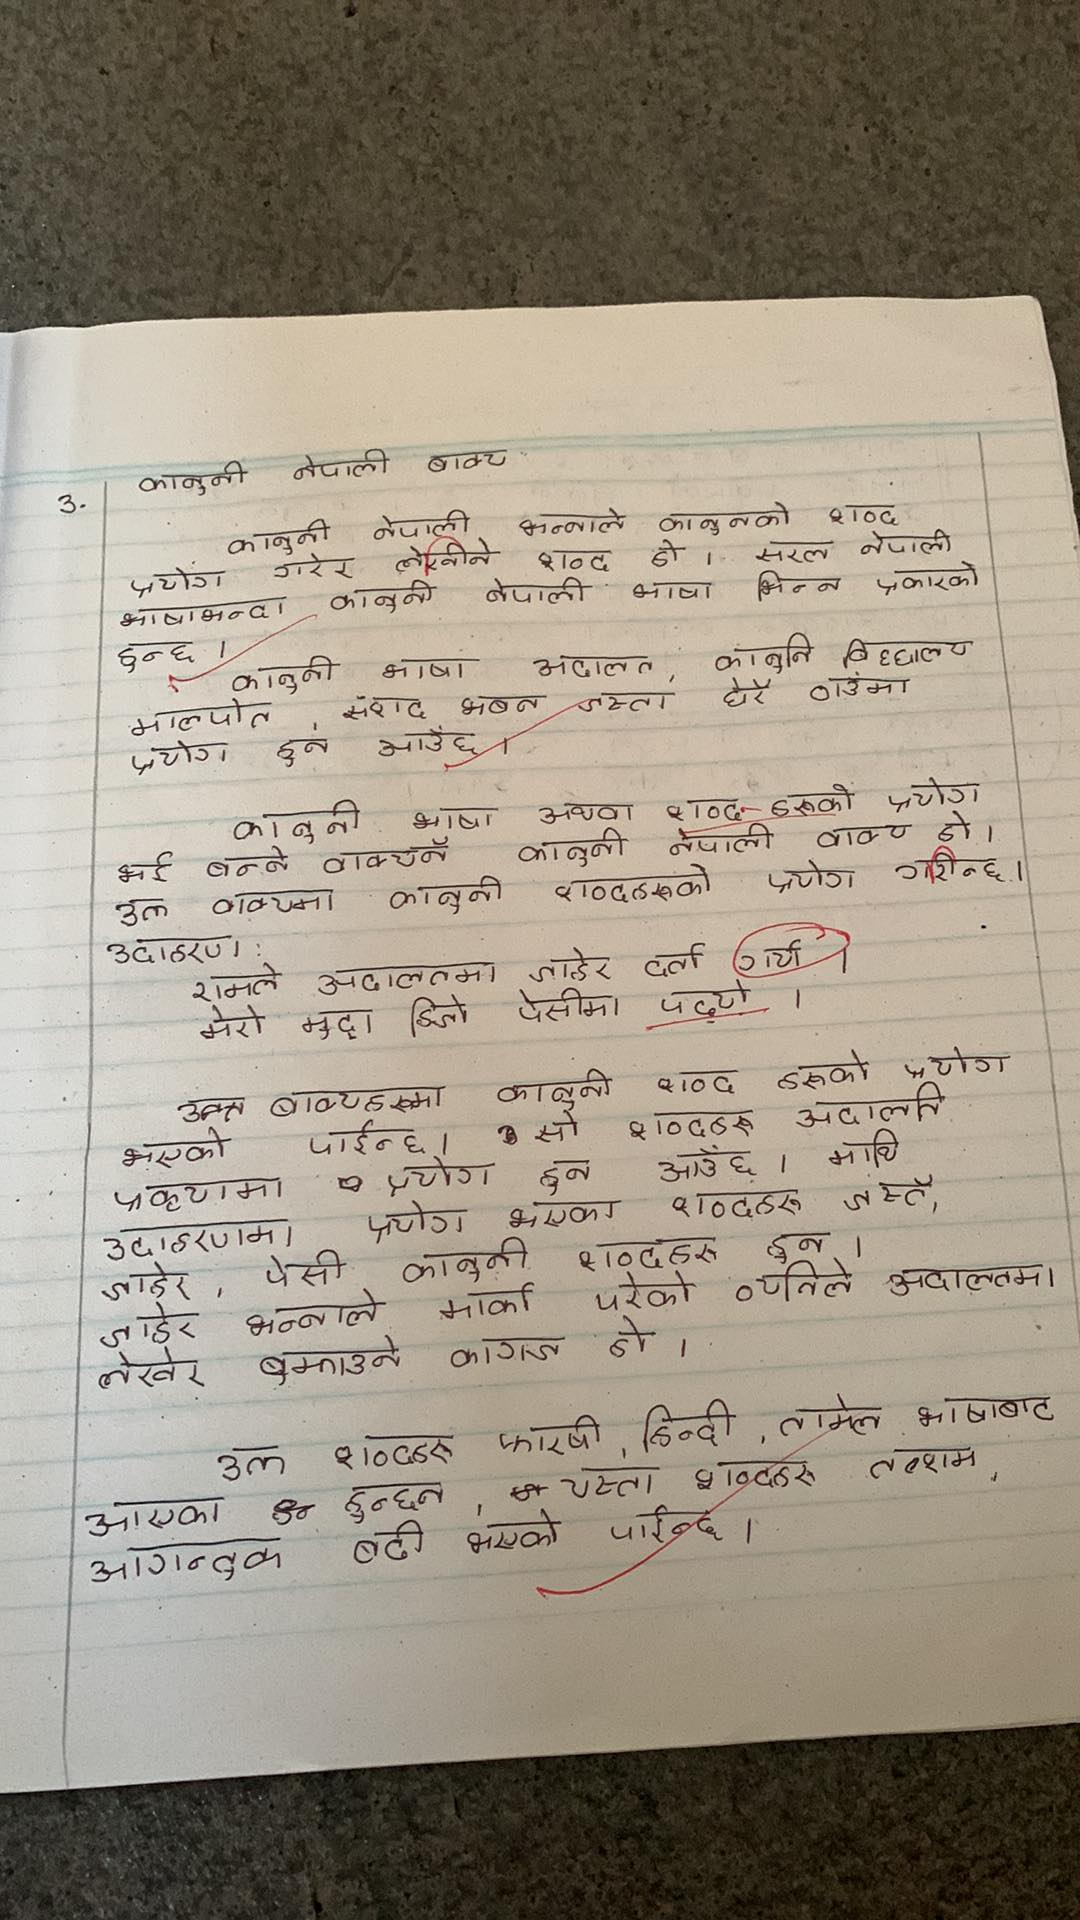text: (88, 1538, 287, 1585), (95, 1215, 298, 1255), (551, 858, 716, 909), (789, 1083, 947, 1131), (237, 1288, 385, 1340), (266, 1079, 446, 1121), (255, 1340, 404, 1389), (886, 1258, 1058, 1299), (400, 1236, 534, 1286), (107, 1174, 287, 1211), (313, 960, 506, 994), (228, 796, 364, 845), (127, 694, 274, 738), (492, 1064, 616, 1114), (575, 1232, 720, 1273), (640, 1395, 738, 1455), (775, 1389, 884, 1443), (116, 595, 291, 628), (462, 1509, 564, 1563), (386, 874, 506, 920), (82, 1495, 222, 1535), (115, 1122, 227, 1171), (88, 1348, 208, 1393), (655, 502, 795, 541), (733, 1261, 856, 1304), (665, 1185, 808, 1222), (301, 1118, 429, 1159), (911, 1393, 1058, 1428), (607, 1505, 729, 1547), (227, 651, 339, 698), (516, 825, 626, 872), (649, 1142, 766, 1185), (894, 847, 1007, 891), (332, 1432, 456, 1473), (364, 1199, 467, 1247), (102, 932, 247, 967), (837, 632, 972, 669), (775, 1044, 874, 1095), (498, 1411, 603, 1458), (385, 1155, 495, 1200), (513, 986, 629, 1029), (318, 839, 455, 874), (345, 1474, 451, 1520), (326, 576, 440, 618), (688, 1456, 815, 1494), (589, 1271, 696, 1316), (711, 629, 814, 675), (841, 1168, 934, 1218), (448, 1332, 564, 1371), (505, 1193, 620, 1233), (866, 1444, 980, 1484), (208, 886, 339, 920), (898, 1043, 1007, 1084), (868, 558, 980, 597), (620, 1109, 760, 1141), (435, 1284, 546, 1324), (96, 1305, 200, 1346), (669, 824, 779, 862), (133, 462, 256, 496), (556, 1462, 655, 1505), (99, 1259, 191, 1304), (655, 984, 753, 1026), (225, 516, 331, 554), (256, 1247, 353, 1288), (351, 1518, 426, 1571), (525, 945, 618, 988), (375, 724, 481, 761), (766, 858, 858, 901), (518, 505, 632, 539), (882, 775, 980, 815), (123, 740, 231, 775), (804, 671, 916, 705), (858, 522, 961, 559), (531, 651, 655, 682), (189, 964, 280, 1005), (373, 505, 477, 541), (392, 541, 496, 576), (291, 447, 394, 483), (407, 986, 473, 1042), (484, 575, 593, 608), (767, 781, 855, 822), (196, 1002, 273, 1048), (828, 1127, 905, 1172), (125, 564, 227, 597), (202, 844, 291, 881), (814, 822, 918, 853), (373, 655, 481, 684), (649, 1068, 740, 1102), (298, 1005, 376, 1044), (659, 794, 749, 828), (535, 796, 636, 827), (756, 567, 843, 601), (760, 1226, 836, 1265), (113, 640, 195, 675), (338, 692, 429, 724), (628, 574, 715, 607), (218, 1444, 287, 1485), (644, 938, 711, 980), (572, 692, 684, 717), (411, 800, 496, 833), (422, 447, 513, 477), (272, 554, 359, 585), (113, 848, 178, 887), (538, 1153, 593, 1199), (740, 940, 806, 978), (456, 691, 545, 719), (753, 538, 835, 567), (824, 498, 902, 529), (112, 893, 171, 931), (604, 1313, 651, 1360), (272, 735, 338, 767), (717, 673, 775, 709), (535, 547, 615, 574), (531, 1112, 584, 1149), (642, 535, 688, 572), (931, 808, 975, 847)
